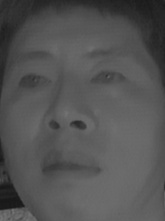eye: (86, 65, 130, 92), (12, 71, 53, 94)
mouth: (40, 146, 103, 186)
